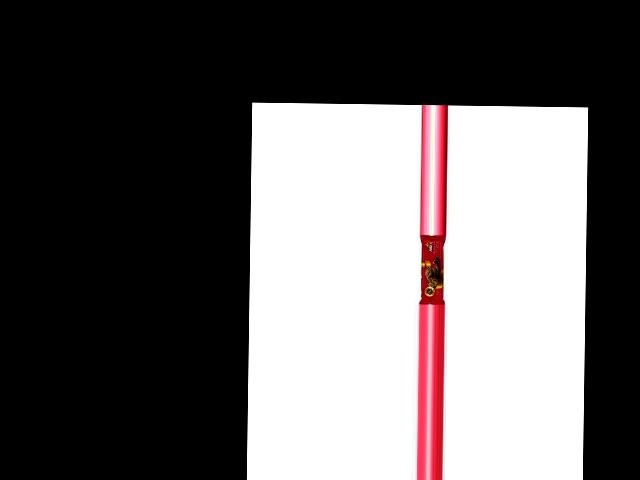chocolate: (420, 234, 448, 303)
